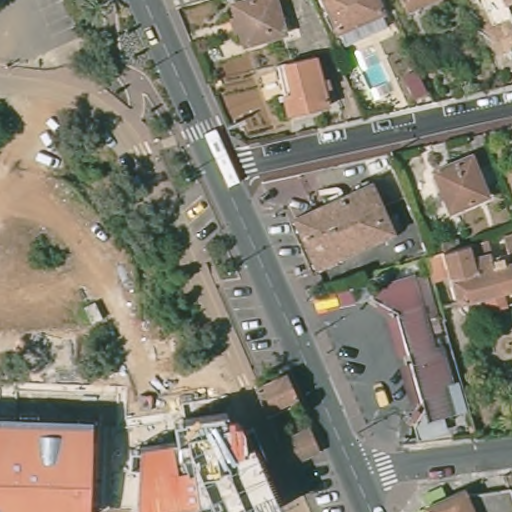pool: (355, 43, 390, 89)
